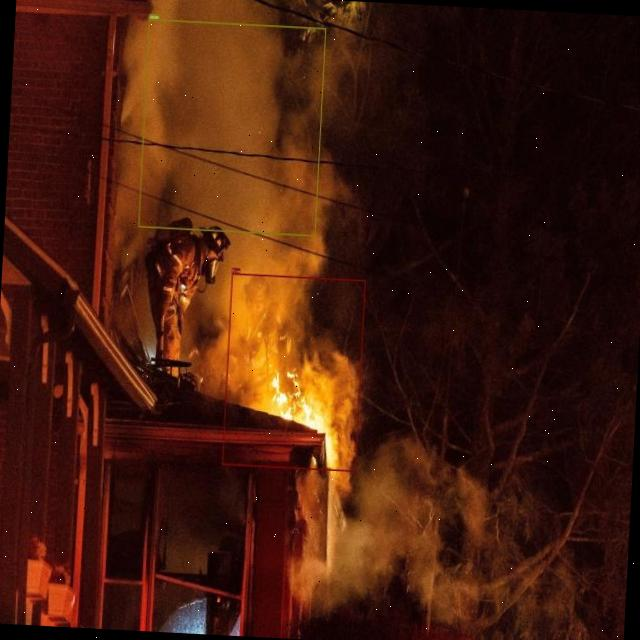fire: (222, 273, 366, 472)
smoke: (138, 18, 326, 236)
